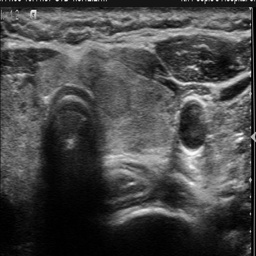mass: (77, 51, 128, 117)
